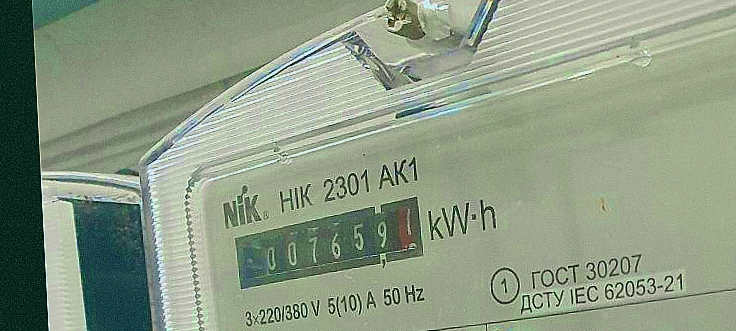0: (263, 242, 277, 270), (284, 239, 298, 266)
1: (400, 206, 414, 237)
5: (349, 220, 366, 253)
6: (327, 229, 342, 260)
7: (305, 232, 320, 264)
9: (373, 216, 390, 251)
screen: (218, 188, 443, 295)
